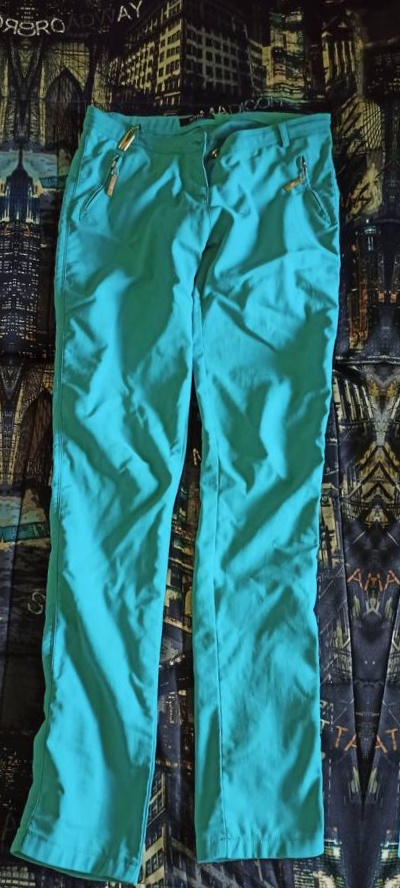Pants: (5, 72, 372, 882), (385, 90, 400, 888), (0, 55, 6, 864)
